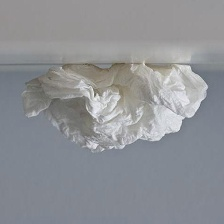tissue: (15, 55, 213, 158)
